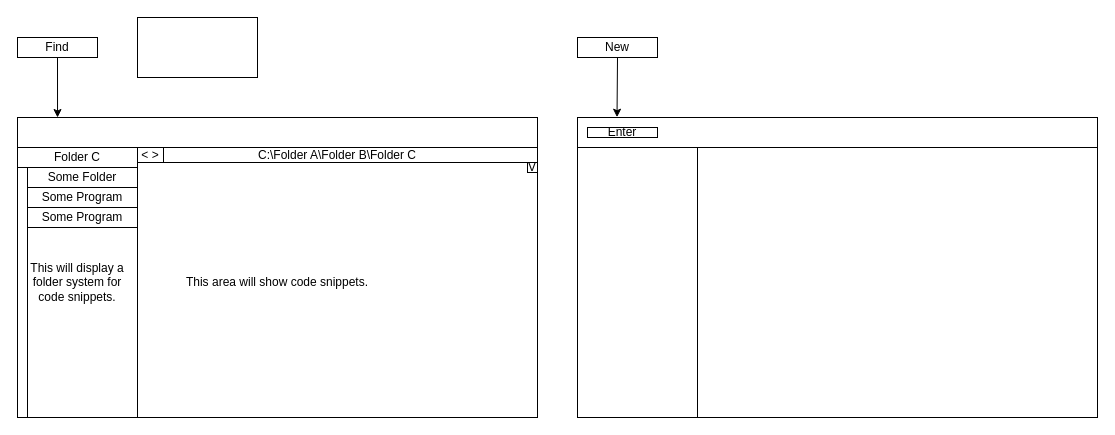
The diagram is 1115 pixels wide and 435 high, and some of its shapes have lost their labels. The shapes that lost their labels are listed below. From the top down, each one's centre as x and y in pixels, then its label:
[197,47]: TODO: Fix req 3
[277,132]: SearchBar
[637,282]: This space is for keywords, a component of snippet organization.
[897,282]: This space is for the new code snippet.
